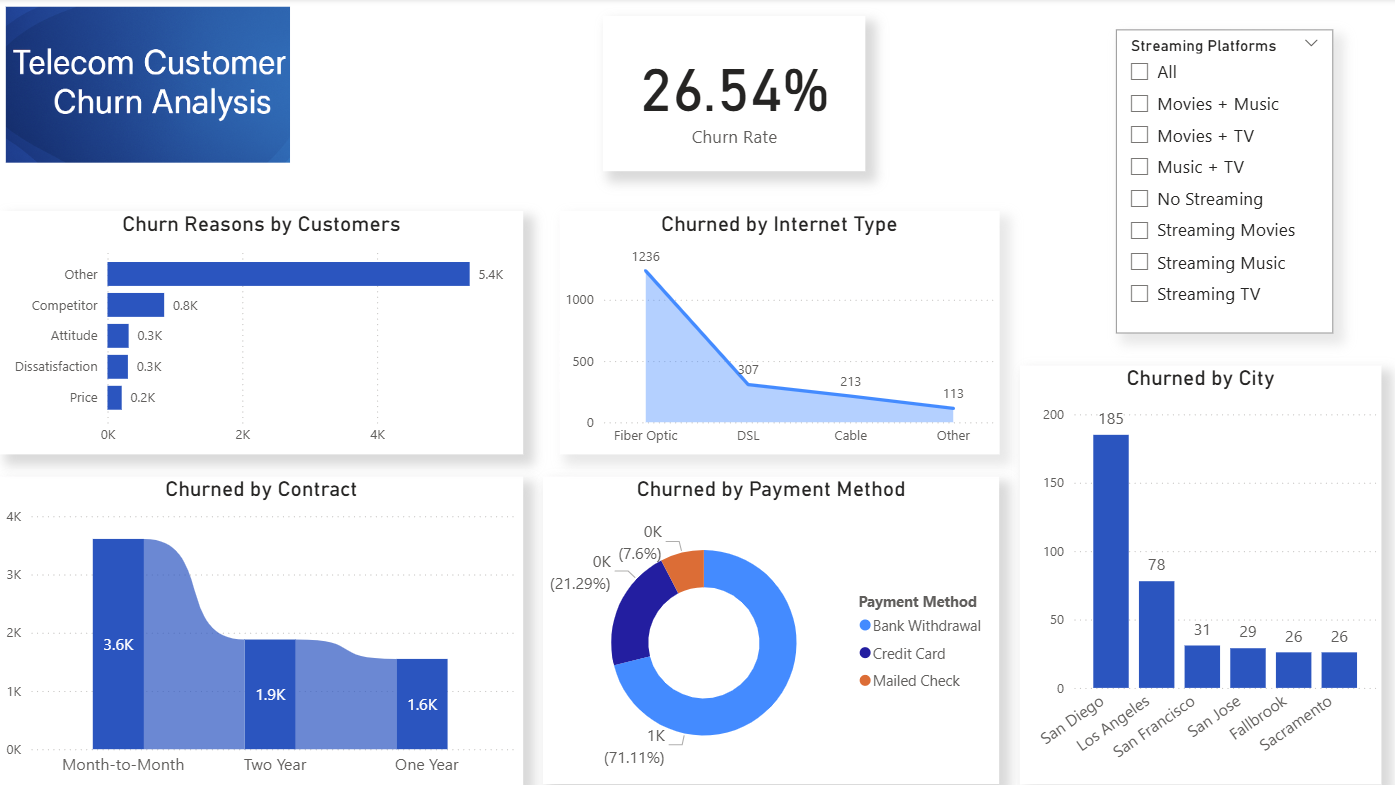

The dashboard page shown, as its layout file describes it:
{"tool":"powerbi","page":{"name":"CHURN ANALYSIS","canvas":[1280,720],"ordinal":0},"visuals":[{"type":"card","fields":{"Values":["Customer Churn.Churn Rate"]},"box":[551.8,17,240,141.7],"z":0},{"type":"image","box":[0,0,270.2,158.7],"z":1000},{"type":"ribbonChart","title":"Churned by Contract","fields":{"Category":["Customer Churn.Contract"],"Y":["CountNonNull(Customer Churn.Churned)"]},"box":[0,437.6,478.5,283.2],"z":2000},{"type":"clusteredBarChart","title":"Churn Reasons by Customers","fields":{"Category":["Customer Churn.Churn Reason"],"Y":["CountNonNull(Customer Churn.Churn Reason)"]},"box":[0,195.3,478.5,222.6],"z":3000},{"type":"donutChart","title":"Churned by Payment Method","fields":{"Category":["Customer Churn.Payment Method"],"Y":["Sum(Customer Churn.Churned)"]},"box":[497,438.4,417.6,281.6],"z":4000},{"type":"slicer","fields":{"Values":["Customer Churn.Streaming Platforms"]},"box":[1020.5,28.3,198.4,277.8],"z":5000},{"type":"areaChart","title":"Churned by Internet Type","fields":{"Category":["Customer Churn.Internet Type"],"Y":["Sum(Customer Churn.Churned)"]},"box":[512.1,194.6,402.5,223],"z":6000},{"type":"clusteredColumnChart","title":"Churned by City","fields":{"Y":["Sum(Customer Churn.Churned)"],"Category":["Customer Churn.City"]},"box":[933.6,336.4,330.7,383.6],"z":7000}]}

Visuals, with their boxes in screenshot pixels (x1, y1, x2, y2), scaled from the page's 1280x720 canvas onto the 1395x785 screenshot:
card - Customer Churn.Churn Rate: (x1=601, y1=19, x2=863, y2=173)
image: (x1=0, y1=0, x2=294, y2=173)
"Churned by Contract" ribbonChart: (x1=0, y1=477, x2=521, y2=784)
"Churn Reasons by Customers" clusteredBarChart: (x1=0, y1=213, x2=521, y2=456)
"Churned by Payment Method" donutChart: (x1=542, y1=478, x2=997, y2=784)
slicer - Customer Churn.Streaming Platforms: (x1=1112, y1=31, x2=1328, y2=334)
"Churned by Internet Type" areaChart: (x1=558, y1=212, x2=997, y2=455)
"Churned by City" clusteredColumnChart: (x1=1017, y1=367, x2=1378, y2=784)
